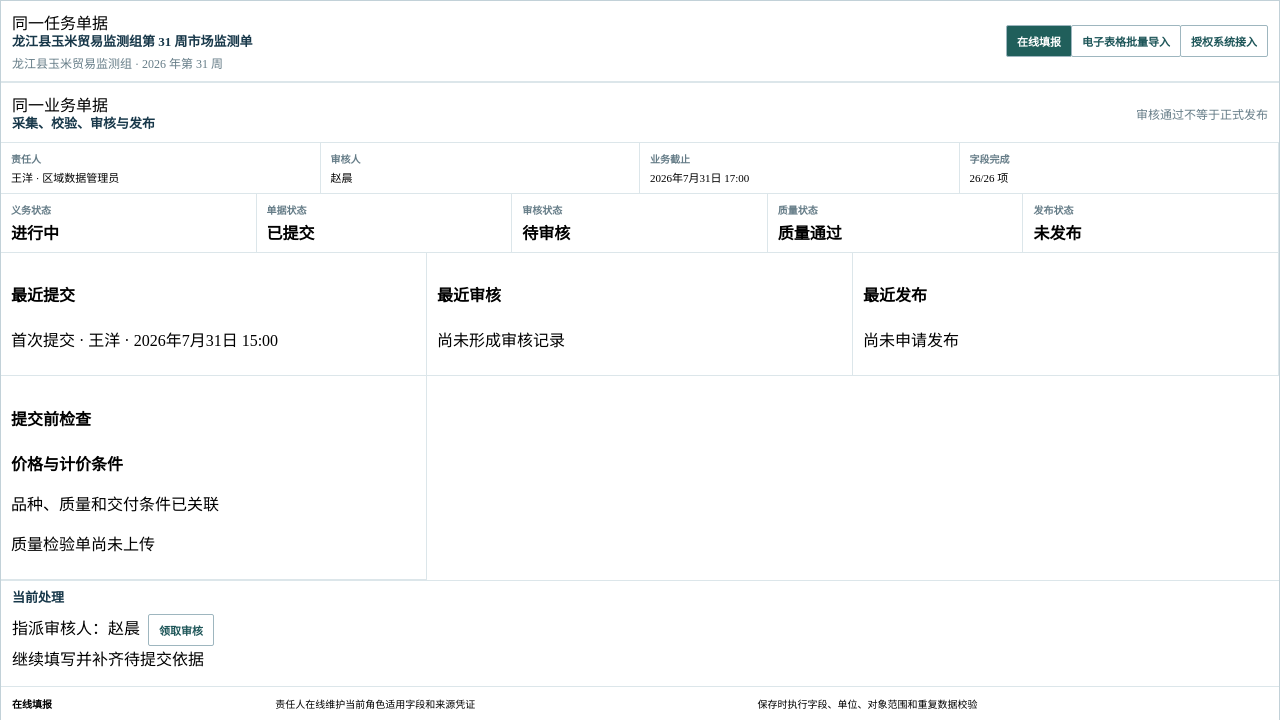
Test case: market document workbench lifecycle actions › lets only the assigned reviewer conclude review and keeps publishing separate
Click the button "领取审核": (181, 630) [148,614,214,646]
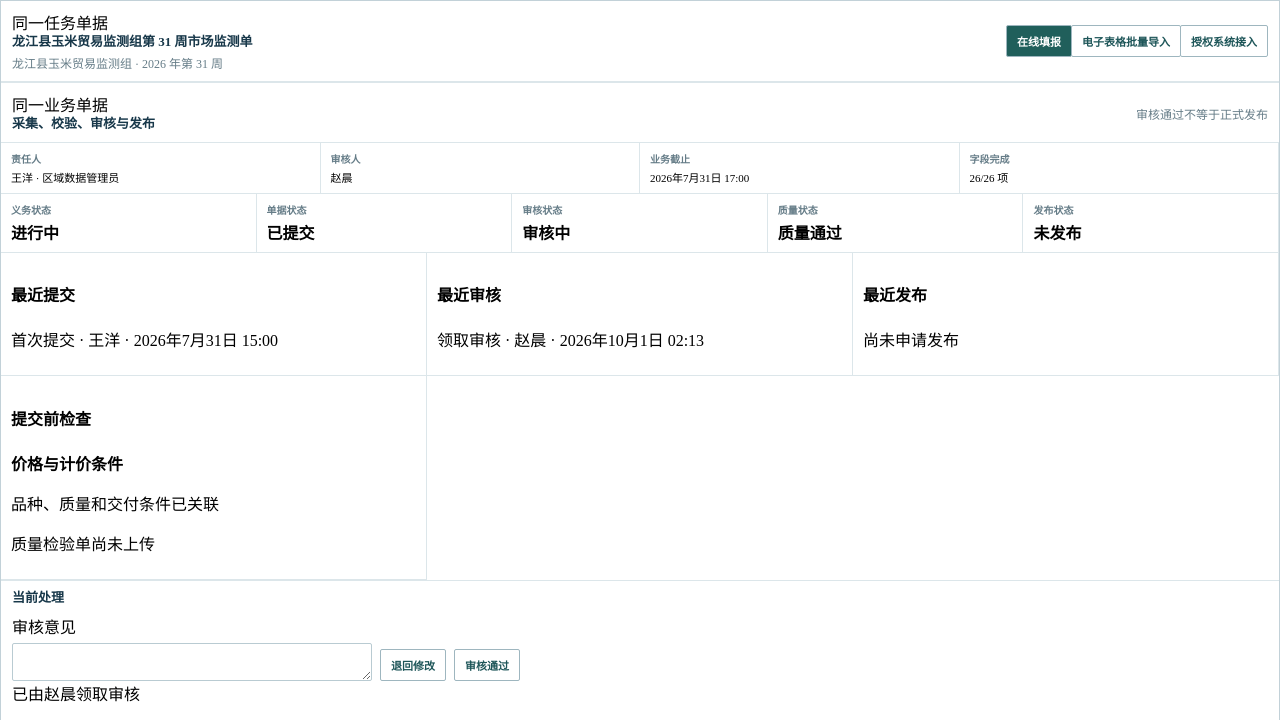
Result: the element named "任务五状态" shows "审核中" at [522,225,570,242]
Click the button "审核通过": (487, 665) [454,649,520,681]
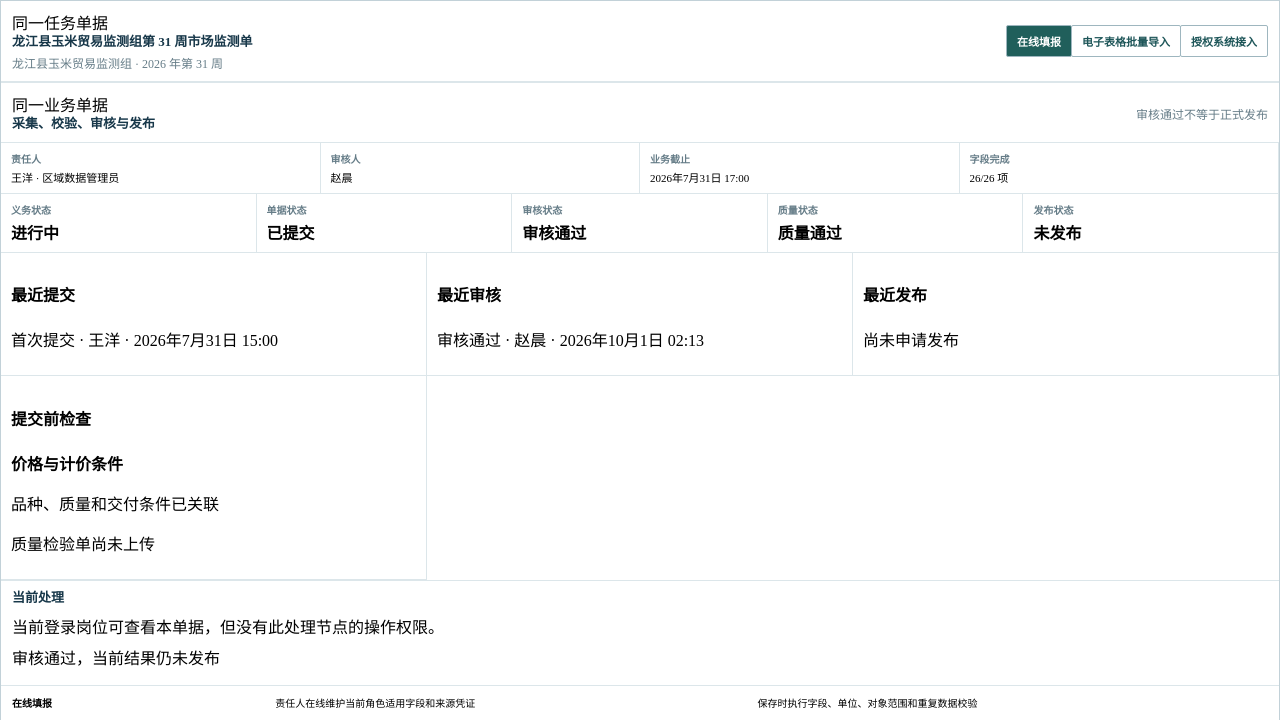
Expected: the element named "任务五状态" shows "未发布", [1033,225,1081,242]
Result: the element named "任务五状态" shows "审核通过" at [522,225,586,242]
Result: the message reads "审核通过，当前结果仍未发布" at [12,650,220,667]
